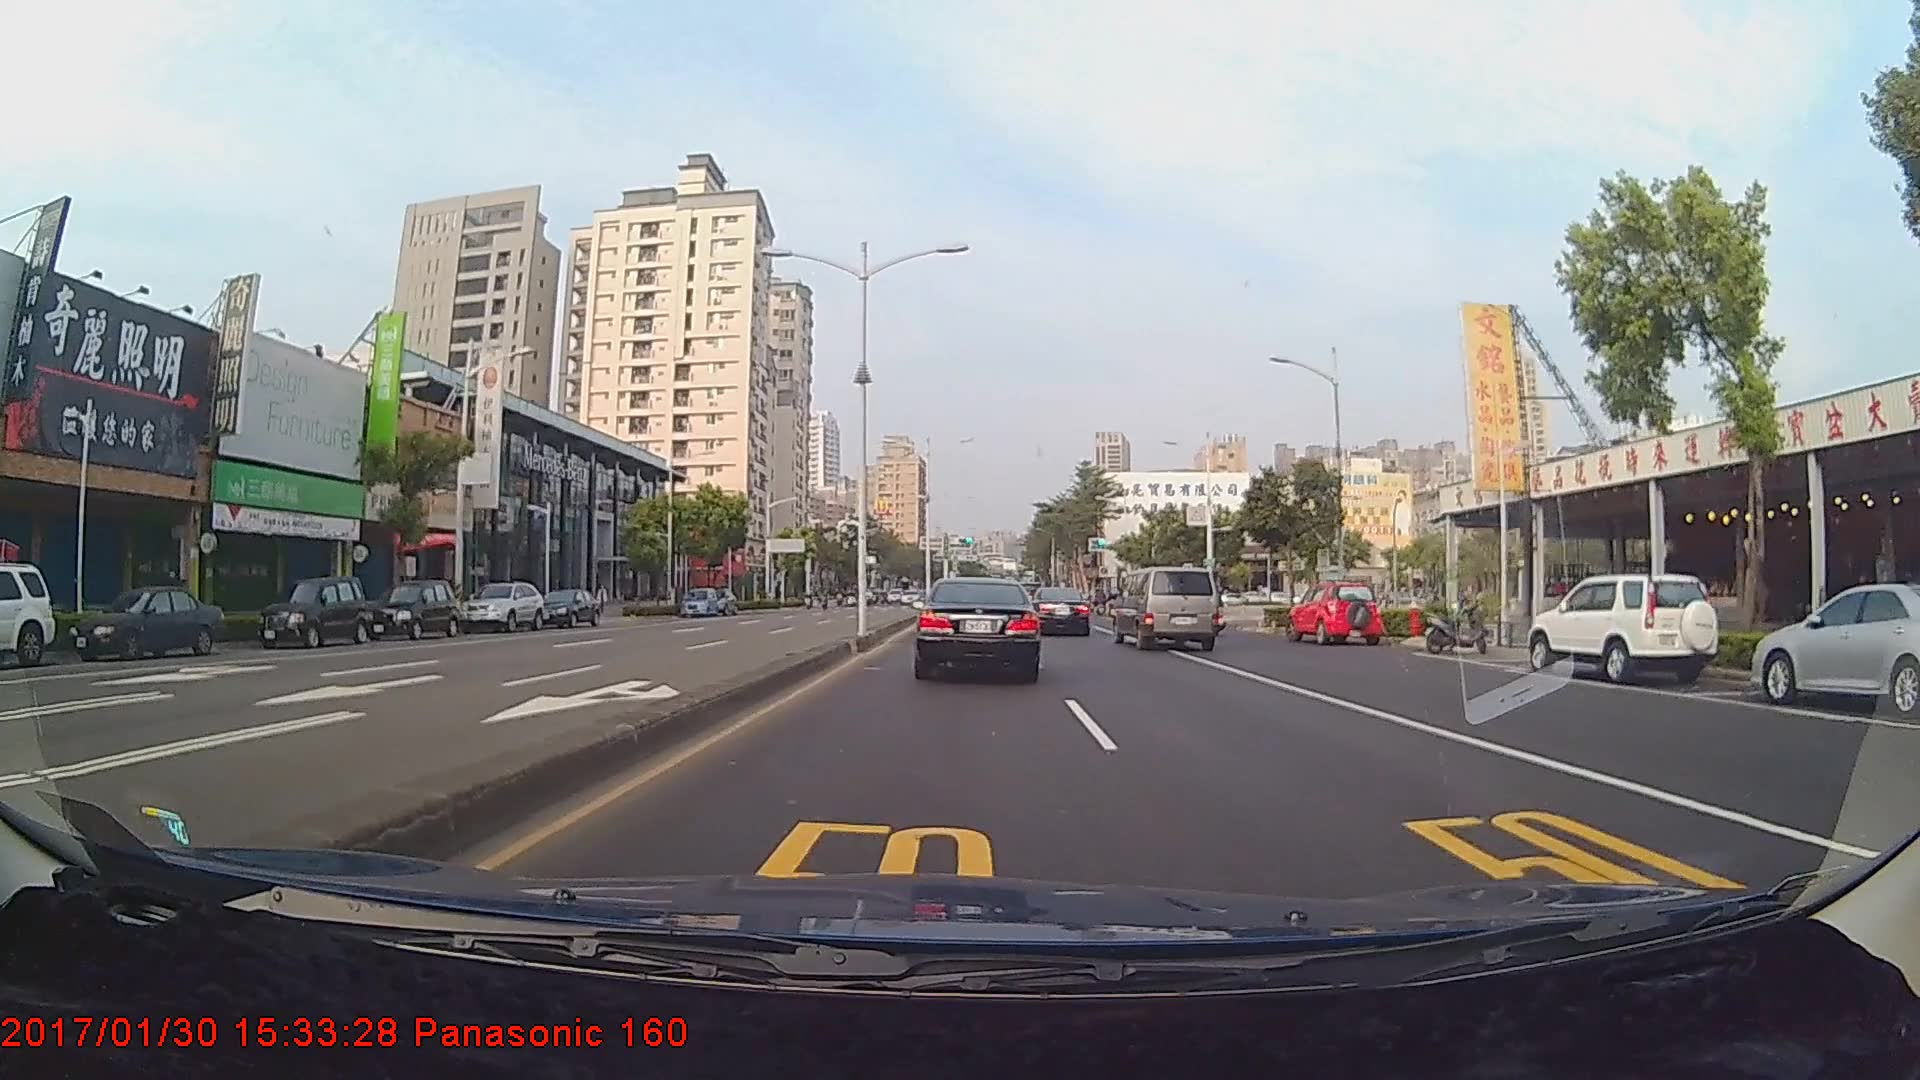vehicle: (1749, 582, 1920, 716), (1534, 568, 1717, 680), (913, 575, 1040, 682), (62, 585, 228, 665), (1112, 564, 1220, 651), (255, 576, 371, 649), (0, 560, 57, 670), (364, 579, 460, 642), (1290, 582, 1379, 647), (462, 582, 545, 633), (1030, 585, 1091, 637), (537, 589, 603, 630), (678, 585, 719, 616)
